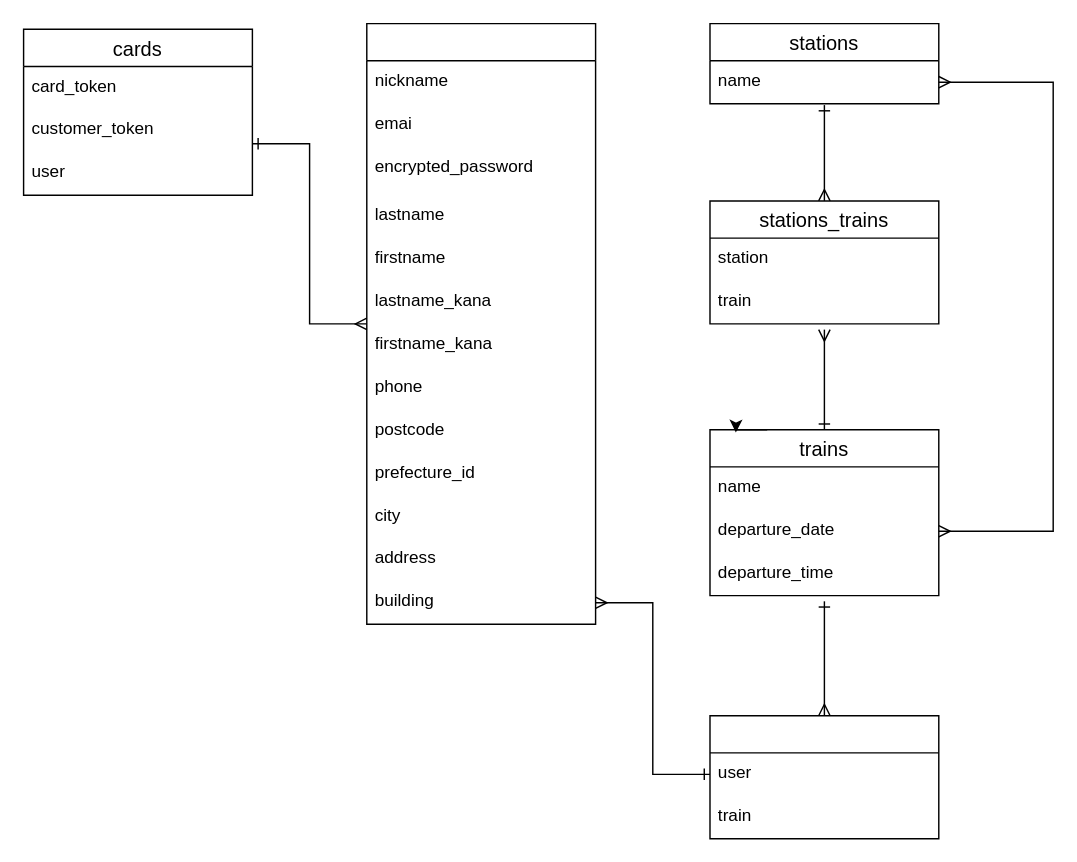
Image size: 1077x862. Some labels were removed from this diagram. The shapes that lost their labels are listed below. From the top down, each one's box as (x1, y1, x2, y2) in pixels, then its label:
(365, 22, 596, 624): users
(709, 714, 939, 839): reserves
